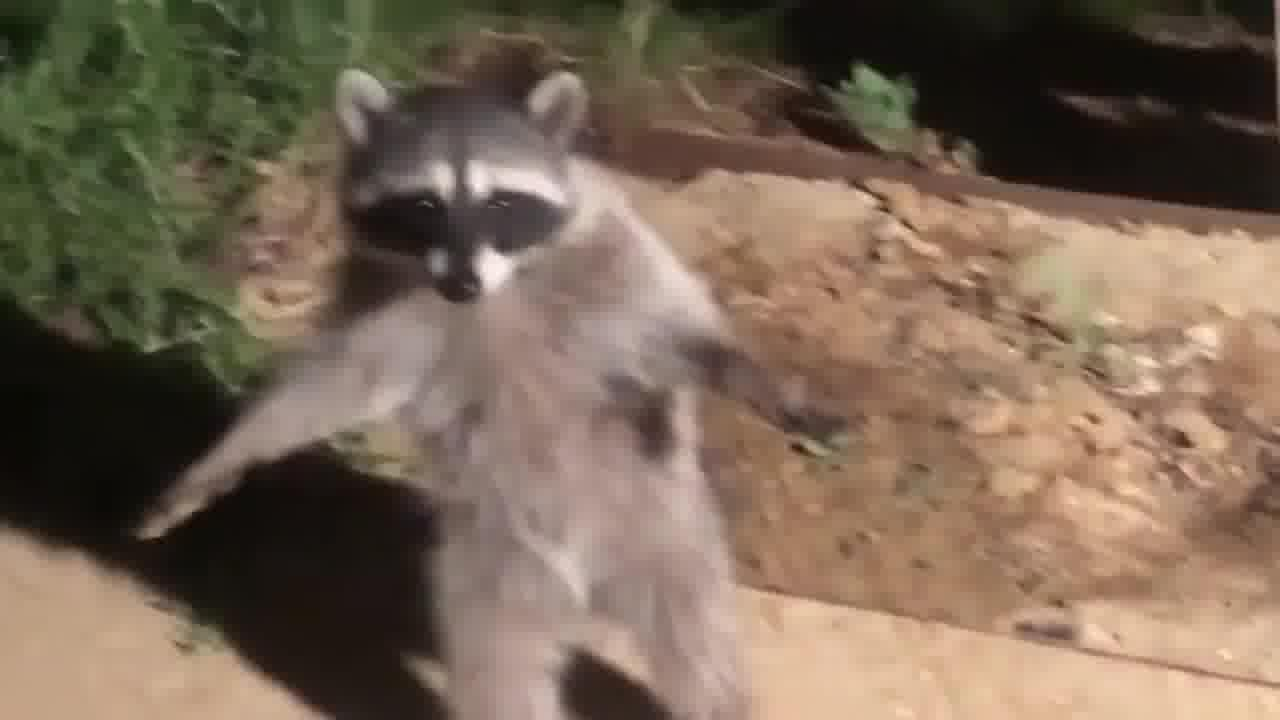raccoon: (131, 65, 854, 720)
